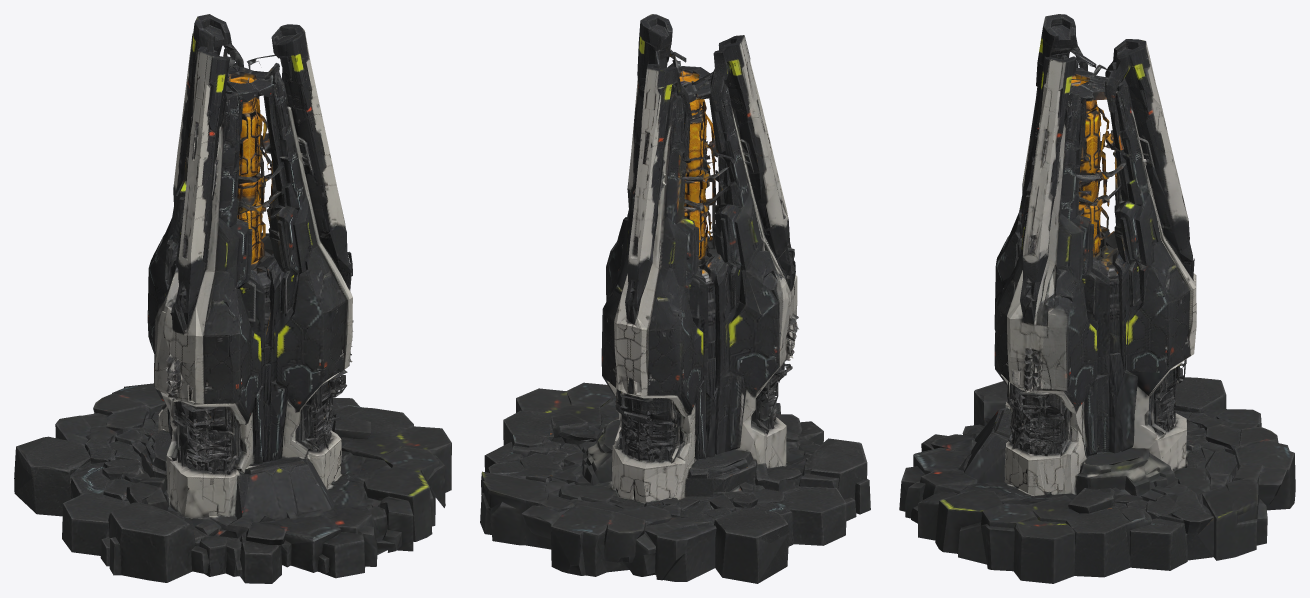
Rendered from v4-solar.glb.
3 renders of one model, left to right at view 1: azimuth 30°, elevation 25°; view 2: azimuth 150°, elevation 25°; view 3: azimuth 270°, elevation 25°, orthographic. The views are drawn at different scales.
Parts seen in each view (by area): view 1: solar_body_00; view 2: solar_body_00; view 3: solar_body_00.
Boxes of the visible parts, x1,y1,x2,y2 form: solar_body_00: (14,14,451,583); solar_body_00: (480,14,870,583); solar_body_00: (899,14,1295,583).
Bounding box in the file's own units: 0.7792 × 1 × 0.7817.
Materials: 1 (1 with a texture image).
